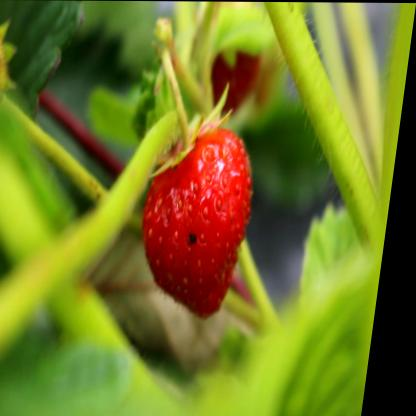ripe: (127, 120, 271, 314), (200, 7, 275, 115)
